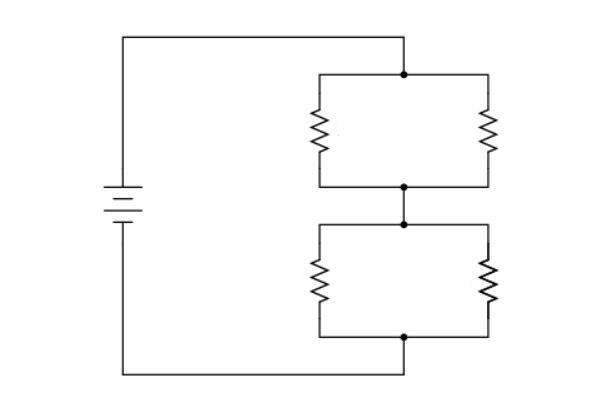resistor: (457, 245, 520, 321), (290, 93, 350, 169), (459, 93, 513, 162), (294, 253, 342, 314)
